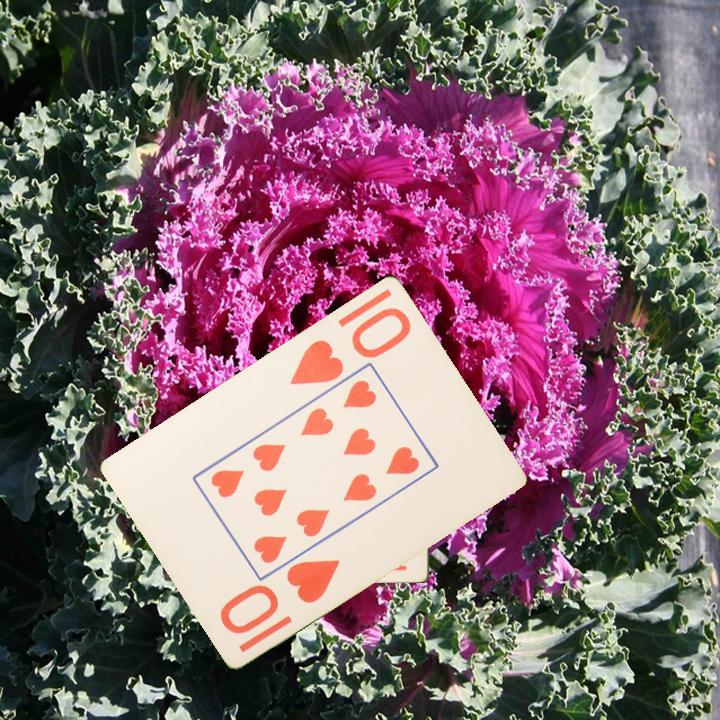10h: (286, 303, 415, 388), (216, 555, 344, 637)
